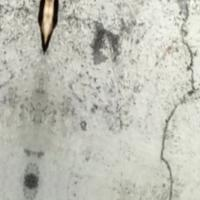crack: (155, 8, 192, 199)
